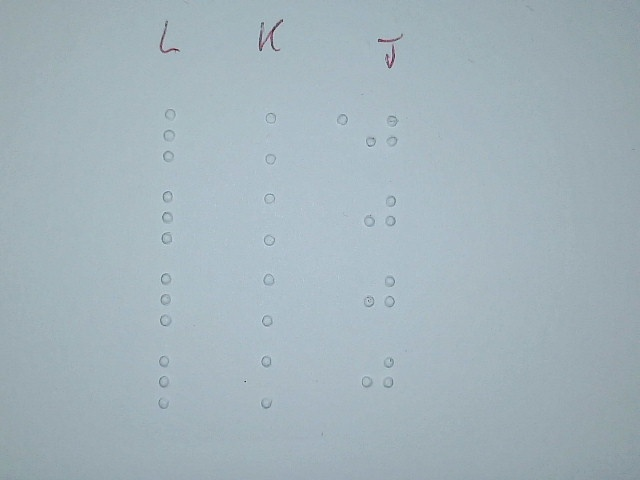J: (362, 107, 401, 164), (360, 187, 399, 244), (360, 266, 399, 323), (358, 347, 397, 404)
K: (255, 107, 303, 168), (253, 188, 301, 249), (251, 269, 299, 330), (251, 350, 299, 411)
L: (153, 105, 201, 166), (153, 186, 201, 247), (150, 268, 198, 329), (148, 352, 196, 413)
